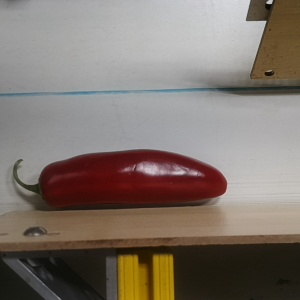Cut Point: (29, 163, 60, 209)
